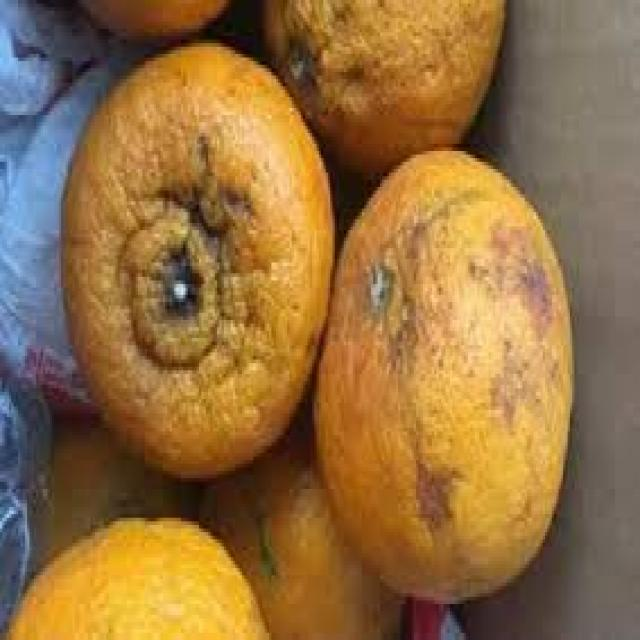organic waste: (57, 36, 330, 482), (310, 140, 572, 604), (195, 432, 407, 636), (262, 0, 504, 158), (2, 514, 267, 636), (39, 407, 192, 576), (86, 0, 233, 47)
